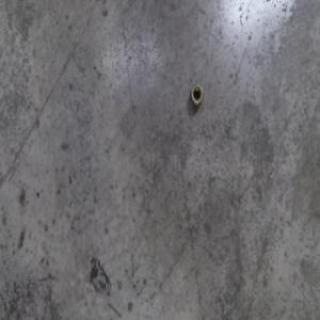Nuttrack_idkeyframe: (189, 82, 203, 107)
